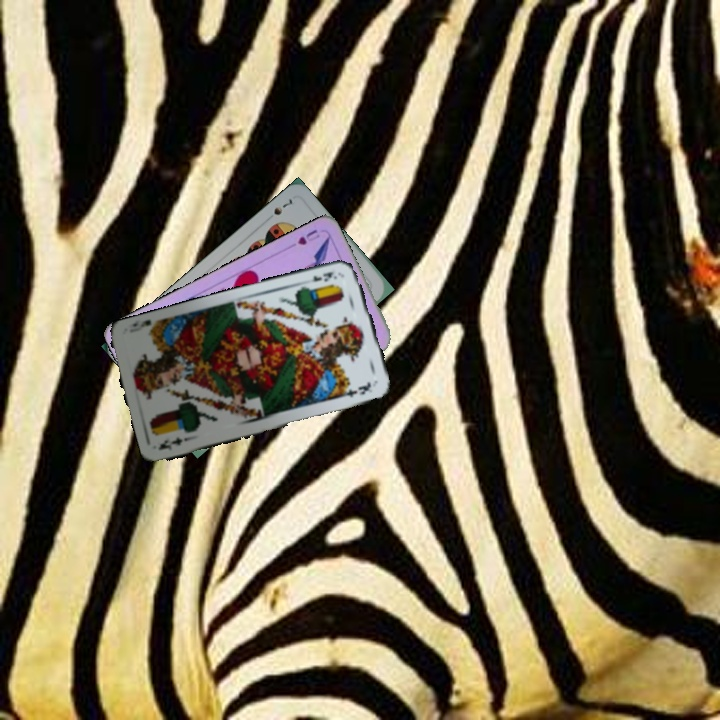EK: (155, 432, 194, 453), (309, 268, 339, 284)
HU: (293, 225, 323, 248)
S7: (261, 194, 295, 224)
